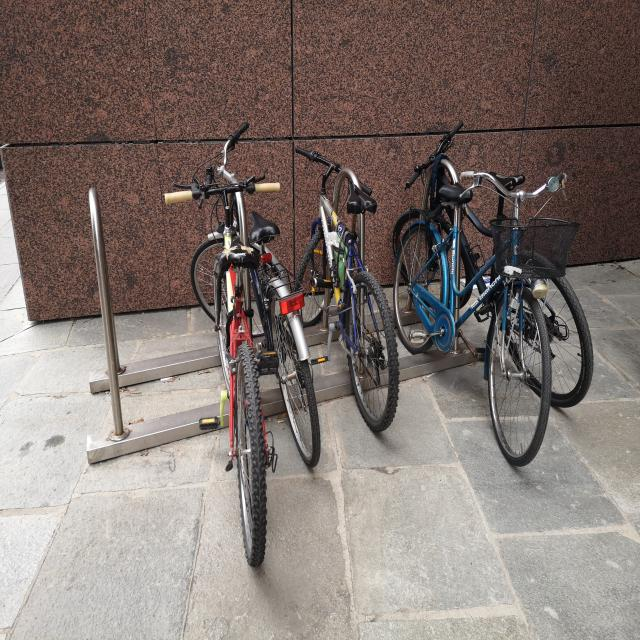Bicycle: (406, 109, 609, 408), (406, 148, 561, 488), (158, 156, 283, 565), (293, 134, 412, 438), (233, 175, 326, 498)
